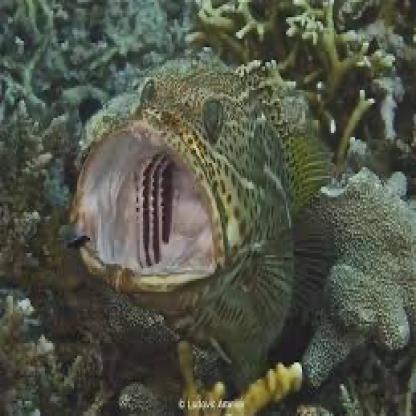Serranidae -Groupers-: (67, 46, 338, 378)
